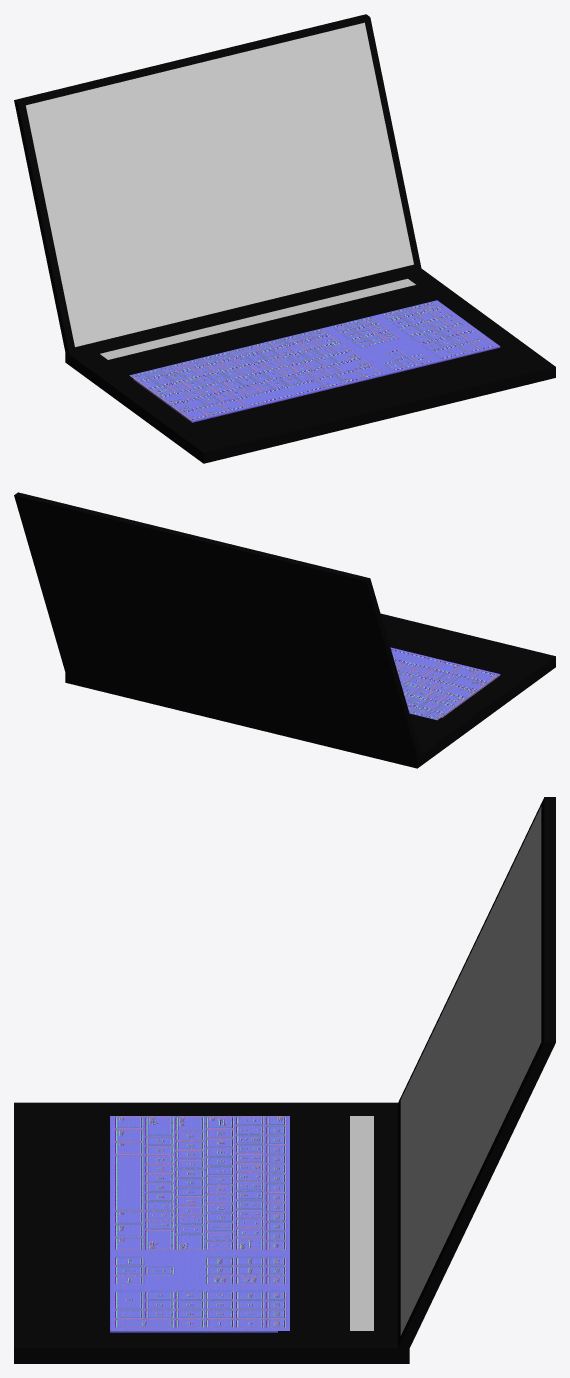
File: laptop.fbx
3 views of the same model, one above another, from view 1: azimuth 30°, elevation 25°; view 2: azimuth 150°, elevation 25°; view 3: azimuth 270°, elevation 25° (orthographic). The views are drawn at different scales.
Parts seen in each view (by area): view 1: screen, body, keyboard, screen back, keyboard.002; view 2: body, keyboard; view 3: body, keyboard, screen, keyboard.002, screen back.
Boxes of the visible parts, bbox=[...] form: screen: bbox=[26, 22, 413, 346]; body: bbox=[14, 14, 555, 463]; keyboard: bbox=[129, 300, 500, 422]; screen back: bbox=[18, 17, 421, 354]; keyboard.002: bbox=[100, 278, 415, 359]; body: bbox=[14, 492, 555, 768]; keyboard: bbox=[390, 647, 500, 720]; body: bbox=[14, 797, 555, 1363]; keyboard: bbox=[110, 1116, 289, 1332]; screen: bbox=[400, 806, 541, 1335]; keyboard.002: bbox=[350, 1116, 373, 1330]; screen back: bbox=[398, 797, 544, 1347].
Bounding box in the file's own units: 608 × 371 × 567.
